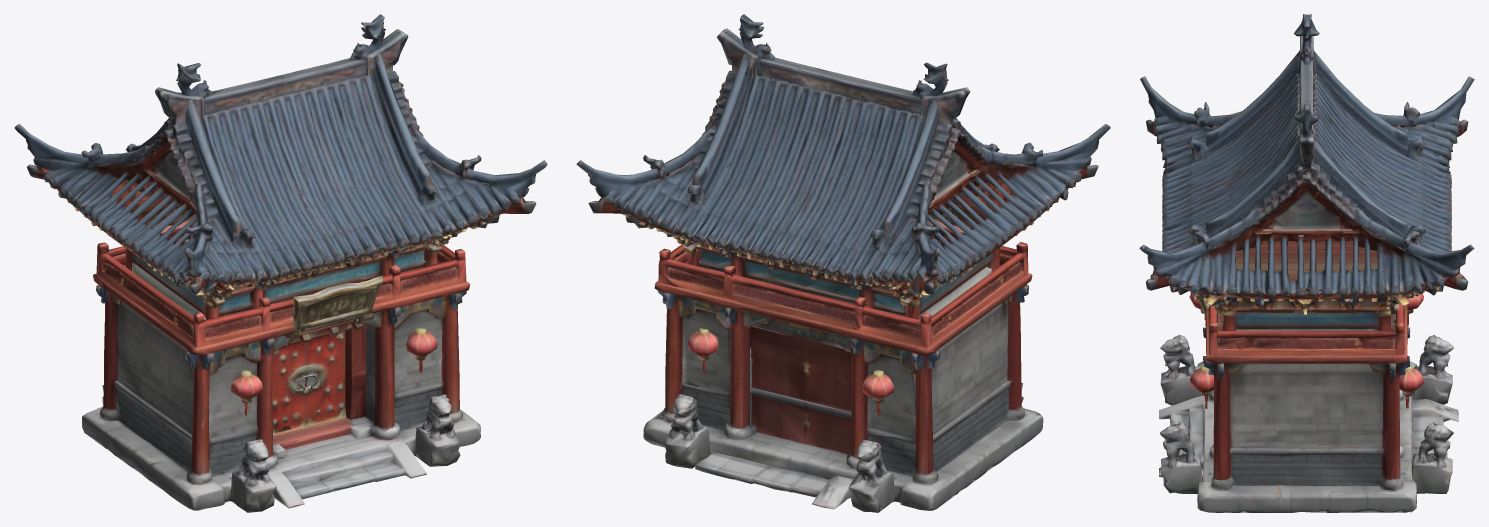
Rendered from original.glb.
3 renders of one model, left to right at view 1: azimuth 30°, elevation 25°; view 2: azimuth 150°, elevation 25°; view 3: azimuth 270°, elevation 25°, orthographic. The views are drawn at different scales.
Visible parts, largest first — view 1: world; view 2: world; view 3: world.
Boxes of the visible parts, x1,y1,x2,y2 form: world: [14, 14, 547, 512]; world: [576, 14, 1110, 512]; world: [1139, 14, 1474, 512].
Bounding box in the file's own units: 0.9619 × 1 × 0.7942.
Materials: 1 (1 with a texture image).
